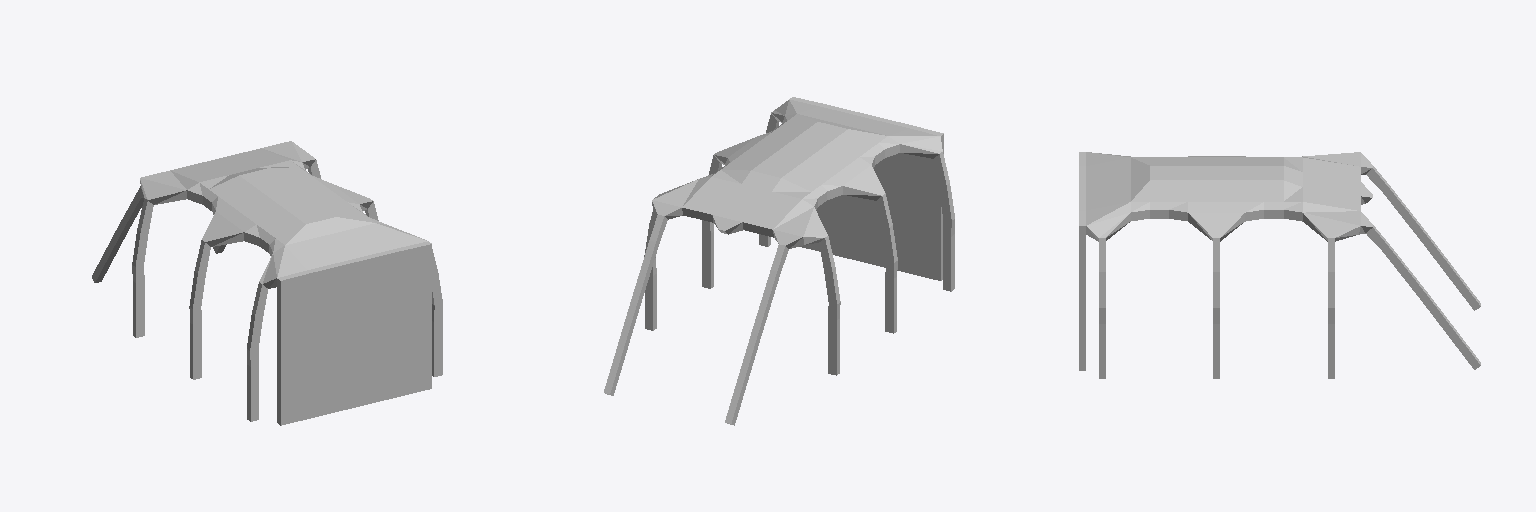
Rendered from ship_roof.obj.
3 renders of one model, left to right at view 1: azimuth 30°, elevation 25°; view 2: azimuth 150°, elevation 25°; view 3: azimuth 270°, elevation 25°, orthographic.
Visible parts, largest first — view 1: roofmirror; view 2: roofmirror; view 3: roofmirror.
Part boxes in pixels (x1,y1,x2,y2): roofmirror: (92,141,442,425); roofmirror: (604,97,954,425); roofmirror: (1079,152,1480,378).
Bounding box in the file's own units: 4.62 × 3.8 × 8.34.